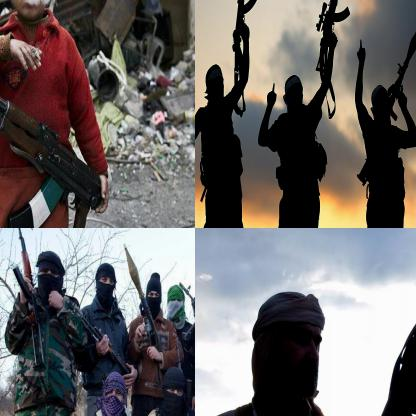rifle: (0, 32, 107, 227), (355, 17, 415, 190), (363, 228, 415, 415), (5, 228, 48, 375), (118, 242, 163, 369), (68, 303, 132, 380), (309, 0, 351, 80), (229, 0, 259, 93), (177, 277, 194, 345)
